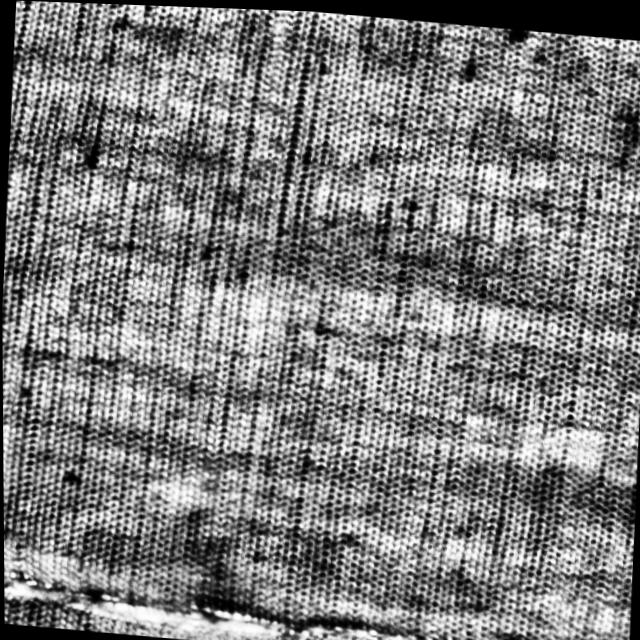Stitch: (3, 556, 413, 640)
